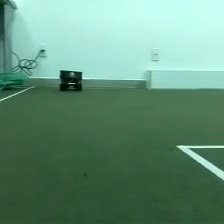goal: (143, 66, 224, 90)
robot: (57, 68, 83, 92)
